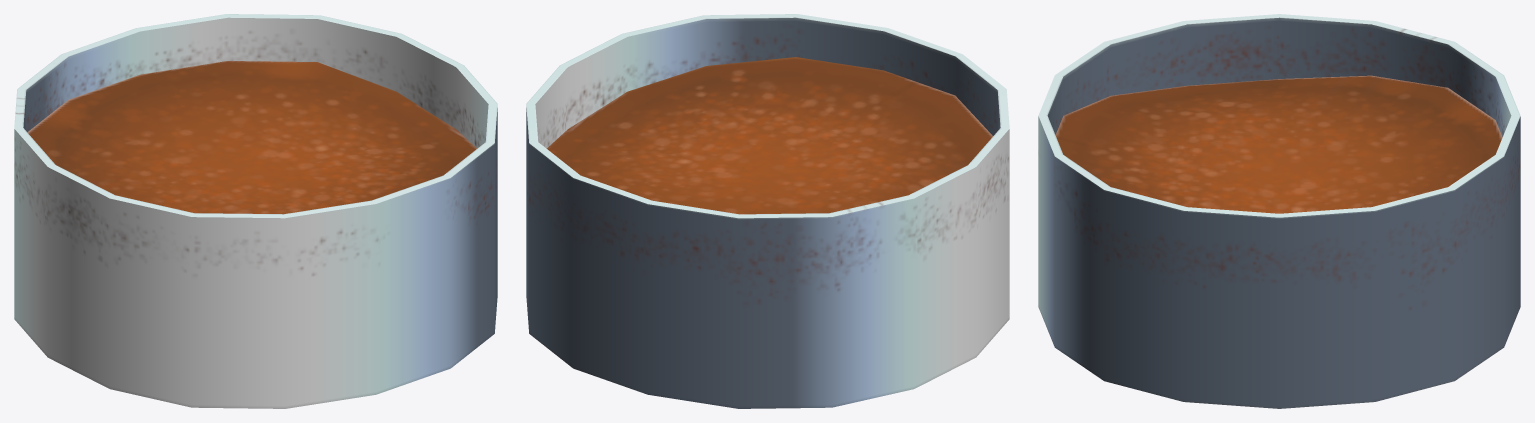
File: Schlammsprudel_bottle.glb
The picture shows the model from 3 angles, left to right: view 1: azimuth 30°, elevation 25°; view 2: azimuth 150°, elevation 25°; view 3: azimuth 270°, elevation 25°; orthographic projection.
Visible parts, largest first — view 1: Schlammsprudel; view 2: Schlammsprudel; view 3: Schlammsprudel.
Part boxes in pixels (x1=…): Schlammsprudel: x1=14, y1=14, x2=497, y2=408; Schlammsprudel: x1=526, y1=14, x2=1009, y2=408; Schlammsprudel: x1=1038, y1=14, x2=1520, y2=408.
Size of the model in its own units: 0.3085 by 0.1352 by 0.3085.
Materials: 2 (2 with a texture image).
